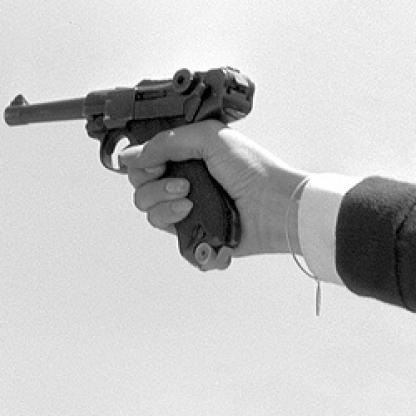gun: (1, 64, 251, 272)
